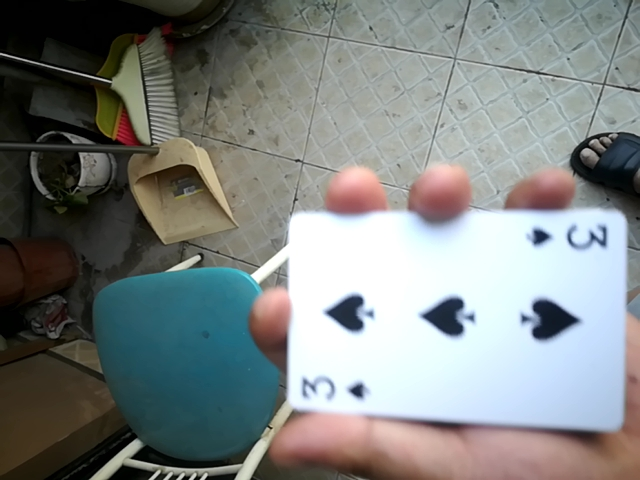ht 3: (284, 204, 619, 431)
